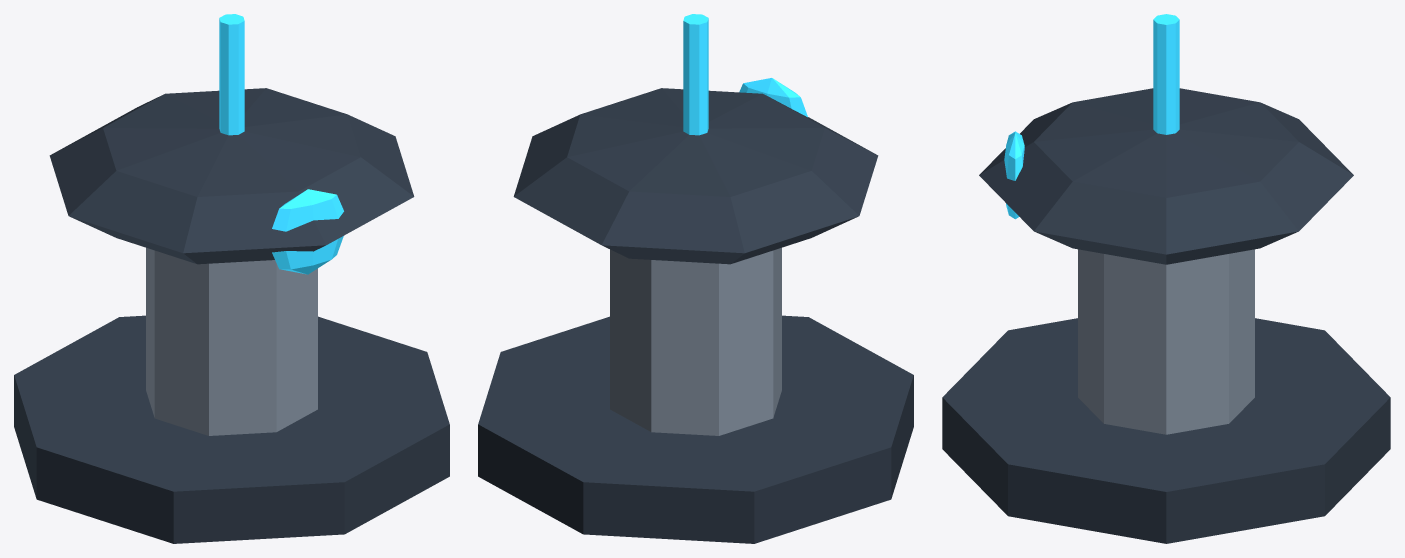
File: scanner.glb
3 views of the same model, side by side, from view 1: azimuth 30°, elevation 25°; view 2: azimuth 150°, elevation 25°; view 3: azimuth 270°, elevation 25° (orthographic).
Parts seen in each view (by area): view 1: Tabletop plinth, Scanner dish, Scanner pedestal, Scanner lens, Scanner antenna; view 2: Tabletop plinth, Scanner dish, Scanner pedestal, Scanner antenna, Scanner lens; view 3: Tabletop plinth, Scanner dish, Scanner pedestal, Scanner antenna, Scanner lens.
Boxes of the visible parts, x1,y1,x2,y2 form: Tabletop plinth: [14, 315, 449, 543]; Scanner dish: [49, 88, 414, 264]; Scanner pedestal: [146, 247, 317, 435]; Scanner lens: [272, 189, 343, 274]; Scanner antenna: [219, 14, 244, 135]; Tabletop plinth: [478, 315, 913, 543]; Scanner dish: [513, 88, 878, 264]; Scanner pedestal: [610, 247, 781, 435]; Scanner antenna: [683, 14, 708, 135]; Scanner lens: [739, 78, 807, 117]; Tabletop plinth: [942, 318, 1390, 543]; Scanner dish: [979, 88, 1353, 264]; Scanner pedestal: [1078, 249, 1254, 434]; Scanner antenna: [1153, 14, 1179, 134]; Scanner lens: [1004, 131, 1024, 219].
Bounding box in the file's own units: 0.86 × 0.91 × 0.86.
